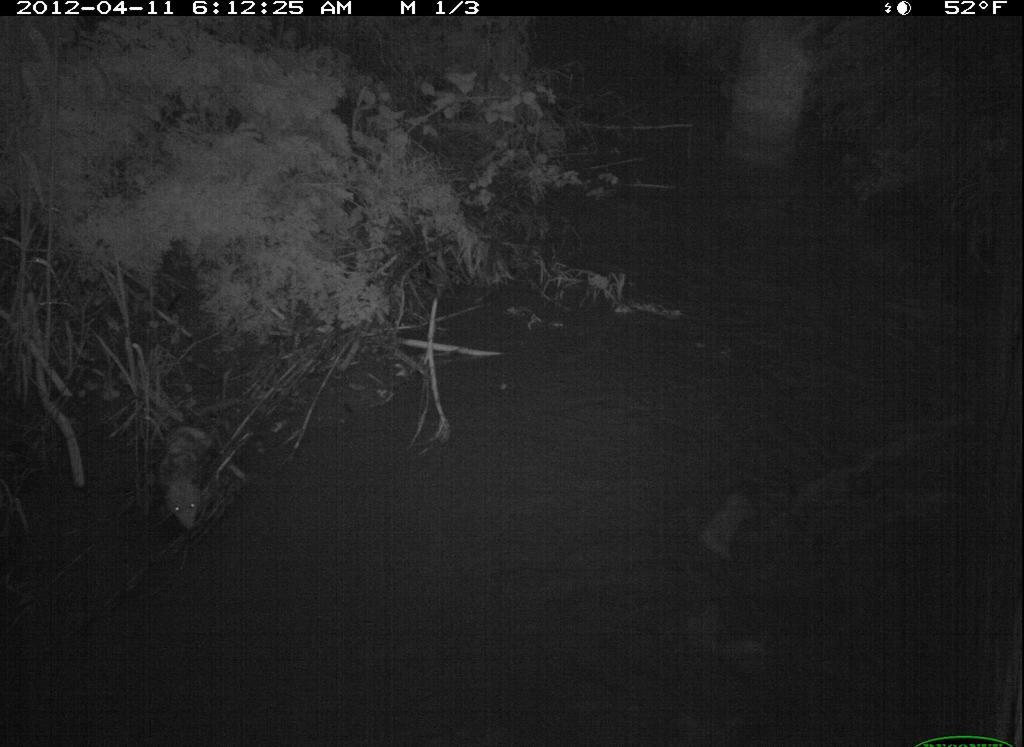opossum: (129, 388, 237, 543)
